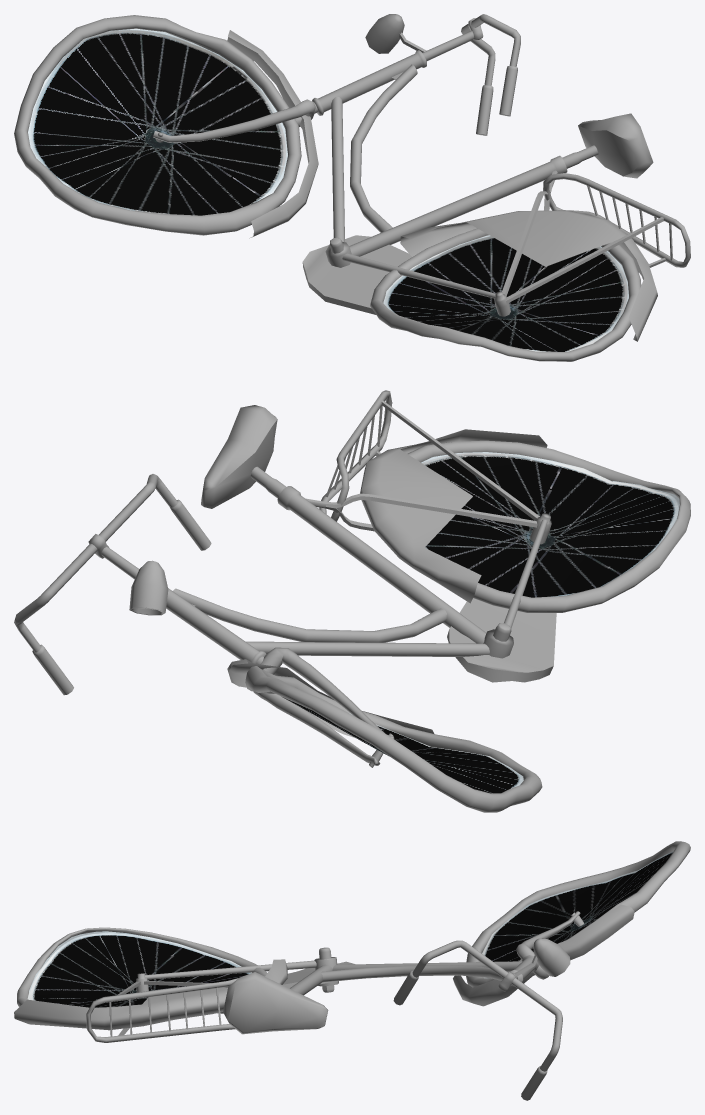
Rendered from Broken_Bike.fbx.
The picture shows the model from 3 angles, top to bottom: view 1: azimuth 30°, elevation 25°; view 2: azimuth 150°, elevation 25°; view 3: azimuth 270°, elevation 25°; orthographic projection. The views are drawn at different scales.
Visible parts, largest first — view 1: Broken_Bike, Spokes; view 2: Broken_Bike, Spokes; view 3: Broken_Bike, Spokes.
Boxes of the visible parts, x1,y1,x2,y2 form: Broken_Bike: (14, 14, 690, 361); Spokes: (28, 28, 628, 351); Broken_Bike: (14, 390, 690, 812); Spokes: (282, 452, 679, 793); Broken_Bike: (14, 841, 690, 1100); Spokes: (27, 851, 673, 1007).
Bounding box in the file's own units: 1.24 × 0.454 × 1.79.
2 materials, 1 textured.
